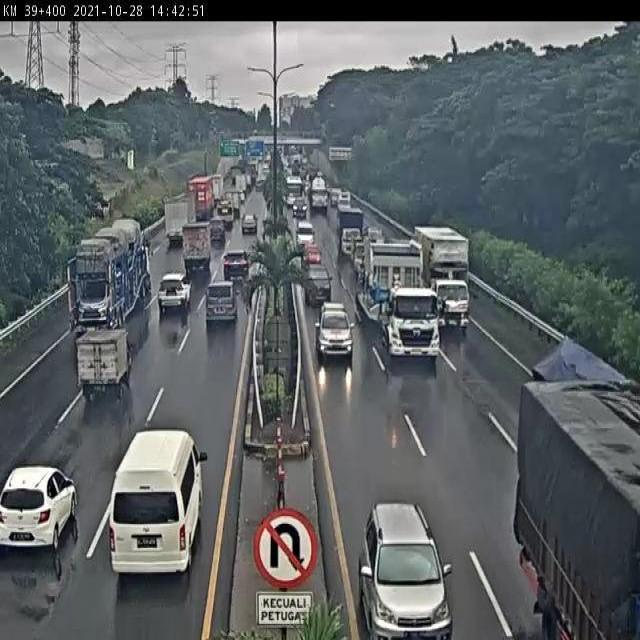car: (358, 494, 450, 640), (0, 467, 76, 545), (316, 300, 353, 353), (302, 265, 333, 308), (204, 277, 234, 320), (160, 272, 191, 308), (222, 251, 250, 279), (303, 244, 325, 271)
truck: (107, 431, 209, 577), (359, 235, 440, 356), (66, 216, 150, 331), (412, 225, 469, 328), (75, 325, 133, 392), (336, 208, 369, 264), (183, 219, 212, 265)
